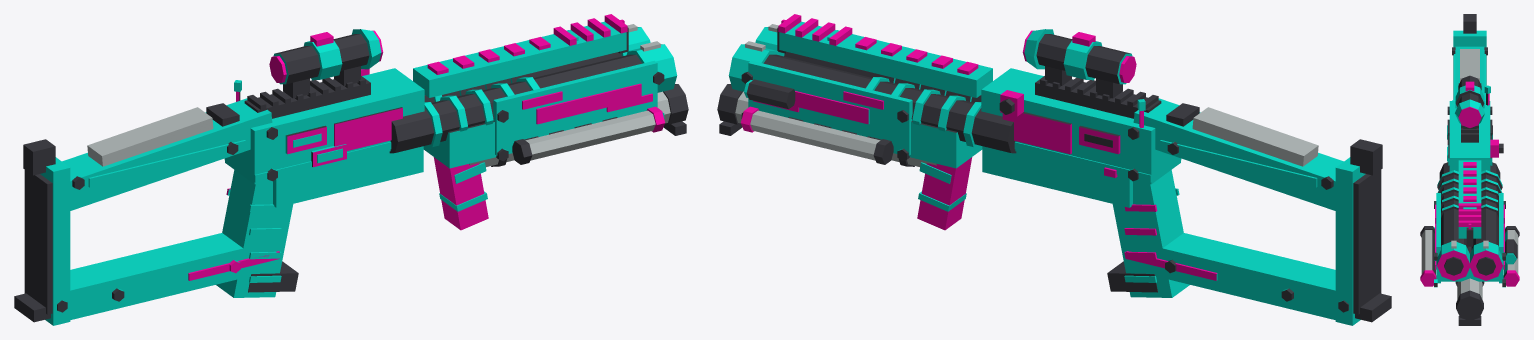
Rendered from escopeta by sebita.fbx.
3 views of the same model, side by side, from view 1: azimuth 30°, elevation 25°; view 2: azimuth 150°, elevation 25°; view 3: azimuth 270°, elevation 25° (orthographic). The views are drawn at different scales.
Visible parts, largest first — view 1: Escopeta_Cyberpunk_LowPoly_v2; view 2: Escopeta_Cyberpunk_LowPoly_v2; view 3: Escopeta_Cyberpunk_LowPoly_v2.
Boxes of the visible parts, x1=… form: Escopeta_Cyberpunk_LowPoly_v2: x1=14, y1=14, x2=688, y2=325; Escopeta_Cyberpunk_LowPoly_v2: x1=717, y1=14, x2=1391, y2=325; Escopeta_Cyberpunk_LowPoly_v2: x1=1420, y1=14, x2=1519, y2=325.
Bounding box in the file's own units: 2.89 × 1.01 × 0.555.
